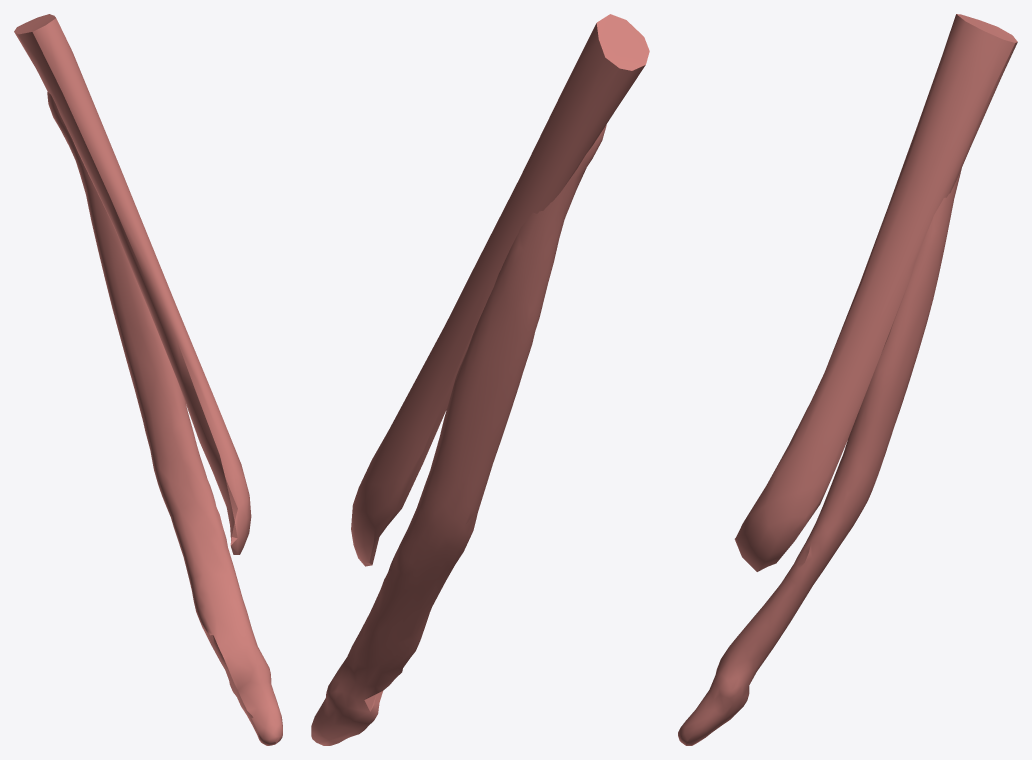
Rendered from fma39566_mm1958m.glb.
The picture shows the model from 3 angles, left to right: view 1: azimuth 30°, elevation 25°; view 2: azimuth 210°, elevation 25°; view 3: azimuth 270°, elevation 25°; orthographic projection. The views are drawn at different scales.
Parts seen in each view (by area): view 1: FMA39566_MM1958M; view 2: FMA39566_MM1958M; view 3: FMA39566_MM1958M.
Part boxes in pixels (bbox=[...]): FMA39566_MM1958M: bbox=[14, 14, 282, 745]; FMA39566_MM1958M: bbox=[311, 14, 649, 745]; FMA39566_MM1958M: bbox=[678, 14, 1017, 745].
Size of the model in its own units: 0.0109 by 0.0509 by 0.023.
